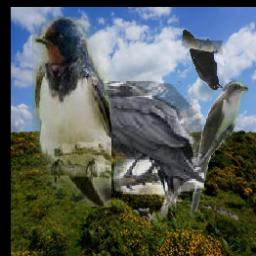Crow: (93, 81, 204, 198), (182, 29, 223, 90)
Cuckoo: (188, 80, 248, 219)
Swallow: (33, 17, 112, 207)
